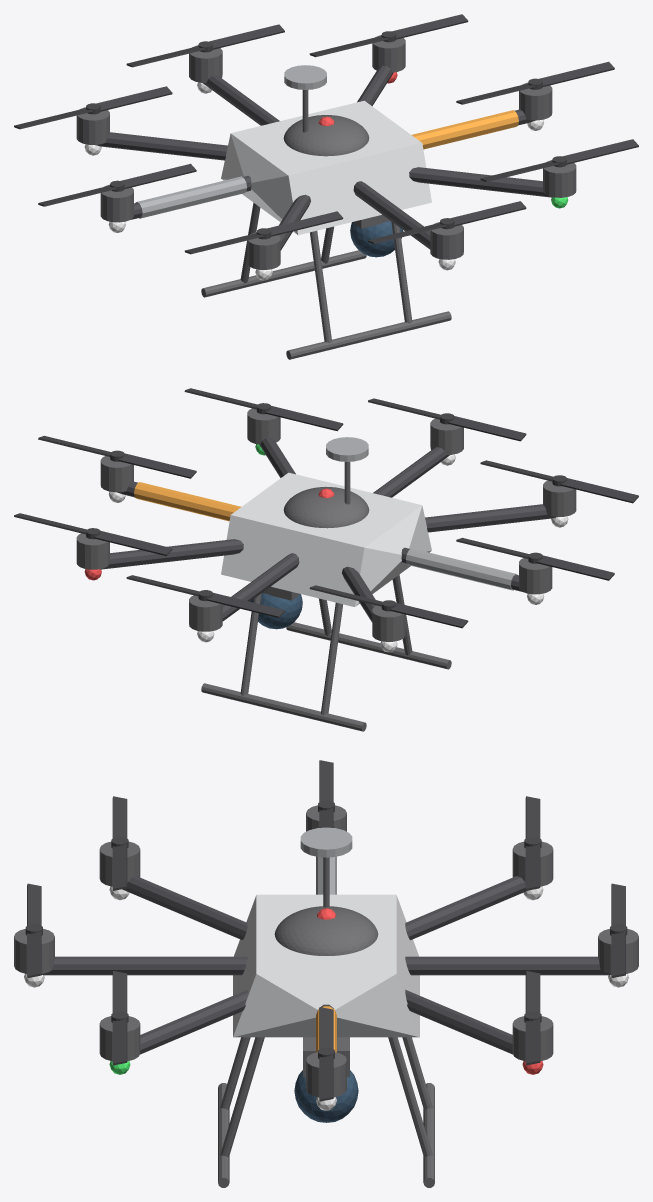
Rendered from smv_octa.glb.
The picture shows the model from 3 angles, top to bottom: view 1: azimuth 30°, elevation 25°; view 2: azimuth 150°, elevation 25°; view 3: azimuth 270°, elevation 25°; orthographic projection. The views are drawn at different scales.
Visible parts, largest first — view 1: octa_v0, octa_v1, octa_v4, octa_v12, octa_v29, octa_v28, octa_v21, octa_v18, octa_v6, rotor_3_v0, rotor_7_v0, rotor_5_v0 (+20 smaller); view 2: octa_v0, octa_v1, octa_v16, octa_v8, octa_v29, octa_v28, octa_v18, octa_v21, octa_v14, rotor_5_v0, rotor_3_v0, rotor_2_v0 (+20 smaller); view 3: octa_v0, octa_v1, octa_v6, octa_v14, octa_v8, octa_v12, octa_v4, octa_v16, octa_v25, rotor_3_v0, rotor_5_v0, rotor_1_v0 (+22 smaller).
Boxes of the visible parts, x1=… form: octa_v0: x1=221, y1=100, x2=431, y2=235; octa_v1: x1=283, y1=115, x2=369, y2=156; octa_v4: x1=409, y1=167, x2=552, y2=197; octa_v12: x1=95, y1=132, x2=227, y2=160; octa_v29: x1=135, y1=176, x2=246, y2=218; octa_v28: x1=412, y1=110, x2=518, y2=149; octa_v21: x1=286, y1=311, x2=451, y2=359; octa_v18: x1=201, y1=250, x2=366, y2=297; octa_v6: x1=353, y1=181, x2=430, y2=249; rotor_3_v0: x1=184, y1=211, x2=343, y2=254; rotor_7_v0: x1=309, y1=14, x2=468, y2=57; rotor_5_v0: x1=14, y1=86, x2=172, y2=129; octa_v0: x1=221, y1=472, x2=431, y2=606; octa_v1: x1=283, y1=486, x2=369, y2=528; octa_v16: x1=100, y1=539, x2=243, y2=569; octa_v8: x1=425, y1=504, x2=557, y2=532; octa_v29: x1=406, y1=548, x2=517, y2=590; octa_v28: x1=134, y1=482, x2=241, y2=521; octa_v18: x1=201, y1=683, x2=366, y2=731; octa_v21: x1=286, y1=622, x2=451, y2=669; octa_v14: x1=222, y1=553, x2=299, y2=621; rotor_5_v0: x1=309, y1=585, x2=468, y2=628; rotor_3_v0: x1=480, y1=460, x2=638, y2=503; rotor_2_v0: x1=368, y1=398, x2=526, y2=441; octa_v0: x1=233, y1=894, x2=419, y2=1037; octa_v1: x1=274, y1=906, x2=378, y2=955; octa_v6: x1=41, y1=956, x2=247, y2=975; octa_v14: x1=405, y1=956, x2=611, y2=975; octa_v8: x1=122, y1=876, x2=247, y2=940; octa_v12: x1=405, y1=876, x2=527, y2=940; octa_v4: x1=140, y1=989, x2=247, y2=1054; octa_v16: x1=405, y1=989, x2=512, y2=1054; octa_v25: x1=294, y1=1070, x2=358, y2=1122; rotor_3_v0: x1=111, y1=796, x2=128, y2=890; rotor_5_v0: x1=524, y1=796, x2=541, y2=890; rotor_1_v0: x1=111, y1=971, x2=128, y2=1065.
Size of the model in its own units: 1.36 by 0.547 by 1.07.
